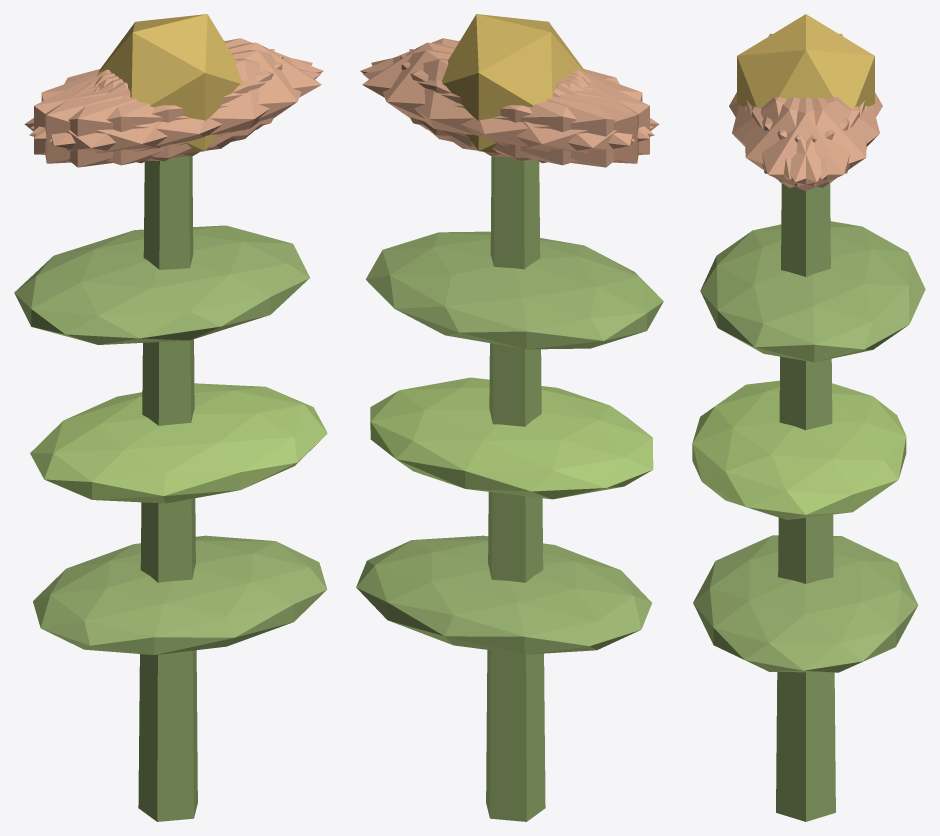
Rendered from torenia-crustacea.glb.
3 renders of one model, left to right at view 1: azimuth 30°, elevation 25°; view 2: azimuth 150°, elevation 25°; view 3: azimuth 270°, elevation 25°, orthographic.
Parts seen in each view (by area): view 1: leaf1, leaf2, leaf0, stem, center, petal1, petal6, petal2, petal5, petal7, petal0, petal4 (+2 smaller); view 2: leaf2, leaf0, leaf1, stem, center, petal8, petal3, petal7, petal4, petal2, petal0, petal5 (+2 smaller); view 3: leaf2, leaf0, leaf1, stem, center, petal0, petal4, petal5, petal1, petal8.
Part boxes in pixels (box(x1,y1,x2,y2)): leaf1: box(30, 383, 327, 503); leaf2: box(14, 225, 309, 344); leaf0: box(33, 535, 327, 654); stem: box(138, 156, 197, 821); center: box(98, 14, 241, 153); petal1: box(29, 58, 320, 165); petal6: box(24, 71, 235, 167); petal2: box(45, 49, 274, 163); petal5: box(49, 50, 312, 157); petal7: box(34, 55, 283, 161); petal0: box(98, 42, 321, 147); petal4: box(30, 38, 323, 138); leaf2: box(365, 231, 663, 349); leaf0: box(356, 535, 651, 654); leaf1: box(370, 377, 653, 499); stem: box(486, 156, 545, 821); center: box(442, 14, 585, 153); petal8: box(363, 58, 654, 165); petal3: box(448, 71, 659, 167); petal7: box(409, 49, 638, 163); petal4: box(371, 50, 634, 157); petal2: box(400, 55, 649, 161); petal0: box(362, 42, 585, 147); petal5: box(360, 38, 653, 138); leaf2: box(700, 221, 925, 362); leaf0: box(693, 535, 918, 672); leaf1: box(692, 380, 906, 519); stem: box(776, 183, 835, 821); center: box(737, 14, 874, 108); petal0: box(746, 97, 864, 191); petal4: box(752, 97, 866, 187); petal5: box(745, 97, 859, 187); petal1: box(732, 97, 849, 179); petal8: box(762, 97, 879, 179).
Size of the model in its own units: 0.1452 by 0.3801 by 0.1035.
